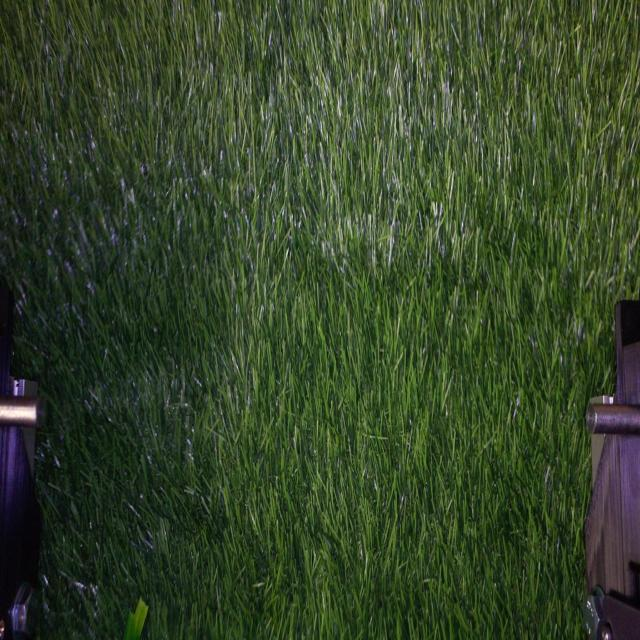dandelion: (0, 0, 628, 616)
